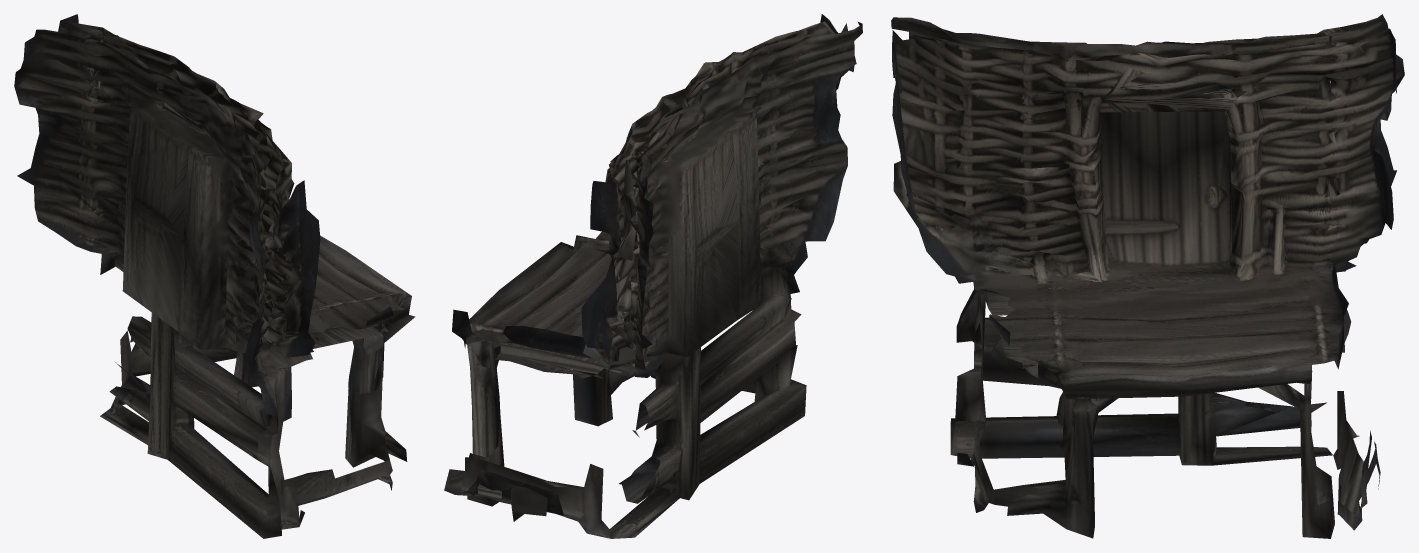
Rendered from horaro_woven_entry_lod0.glb.
The picture shows the model from 3 angles, left to right: view 1: azimuth 30°, elevation 25°; view 2: azimuth 150°, elevation 25°; view 3: azimuth 270°, elevation 25°; orthographic projection. The views are drawn at different scales.
Parts seen in each view (by area): view 1: horaro_woven_entry_lod0; view 2: horaro_woven_entry_lod0; view 3: horaro_woven_entry_lod0.
Boxes of the visible parts, left/top/right/bottom form: horaro_woven_entry_lod0: left=14, top=14, right=415, bottom=538; horaro_woven_entry_lod0: left=444, top=14, right=862, bottom=538; horaro_woven_entry_lod0: left=891, top=14, right=1404, bottom=538.
Bounding box in the file's own units: 1.79 × 2.56 × 2.86.
1 material, 1 textured.
